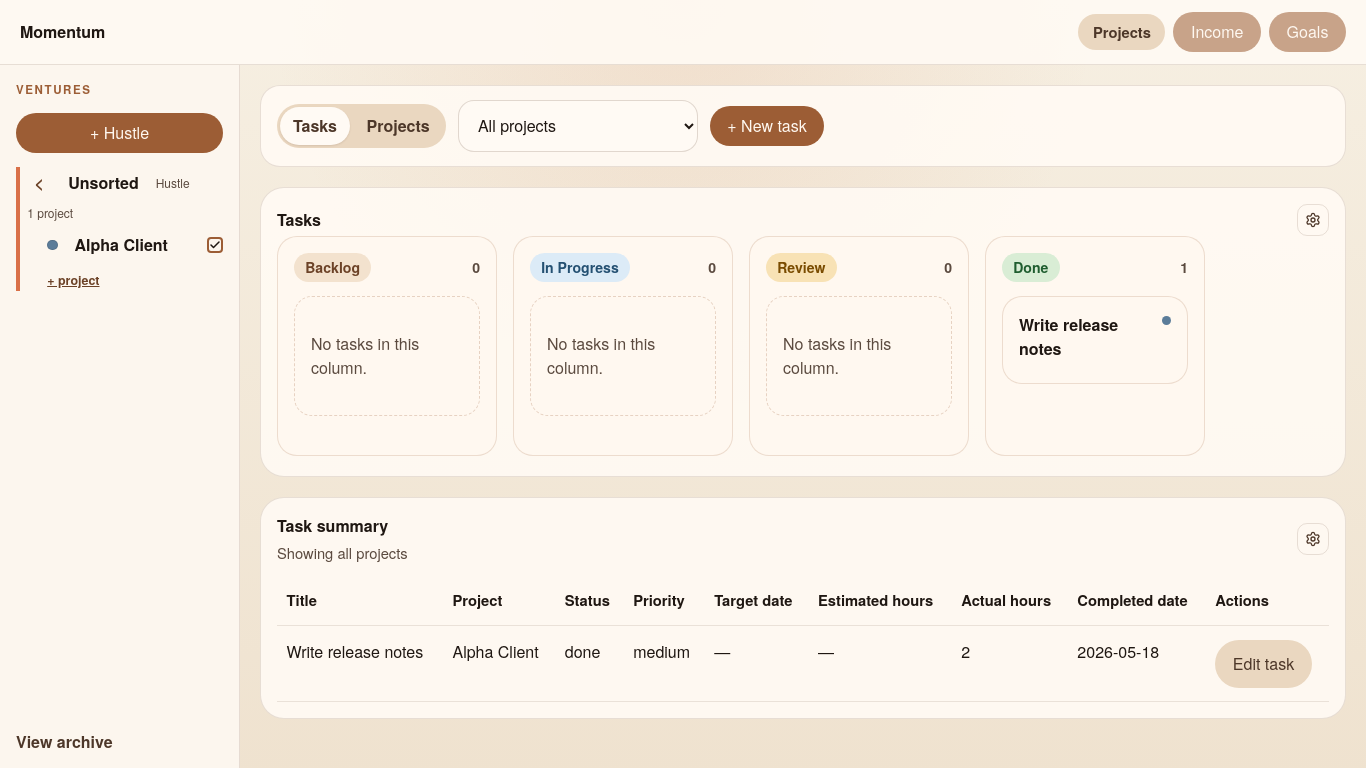
Scenario: Task modal: time logs, chrome, and archive affordance › blur and close save with cancel discard › persists field edits on blur and when closing via the icon
This screenshot has width=1366, height=768.
Click the button "Edit task" at (1264, 664), box [1215, 640, 1312, 688]
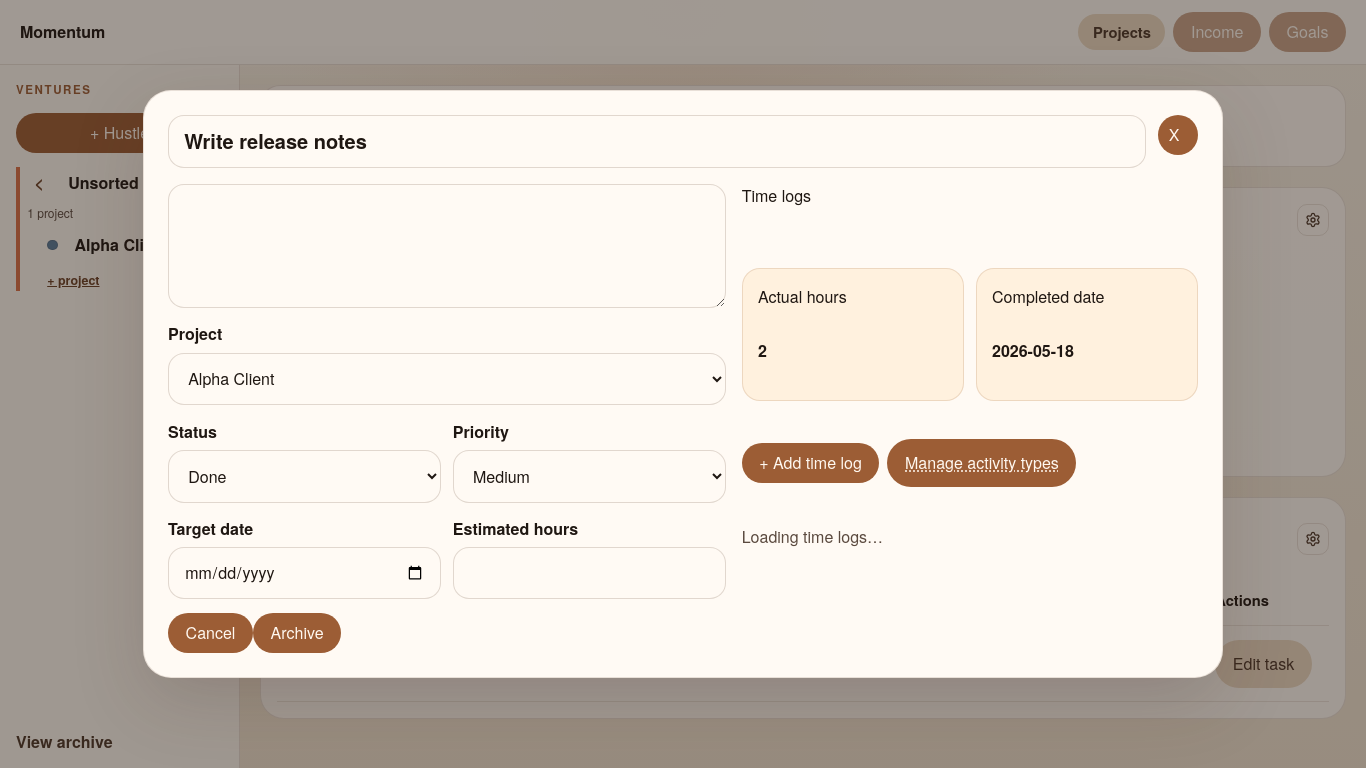
Type "Updated release copy" into the text box named "description" at (447, 246), box [168, 184, 726, 308]
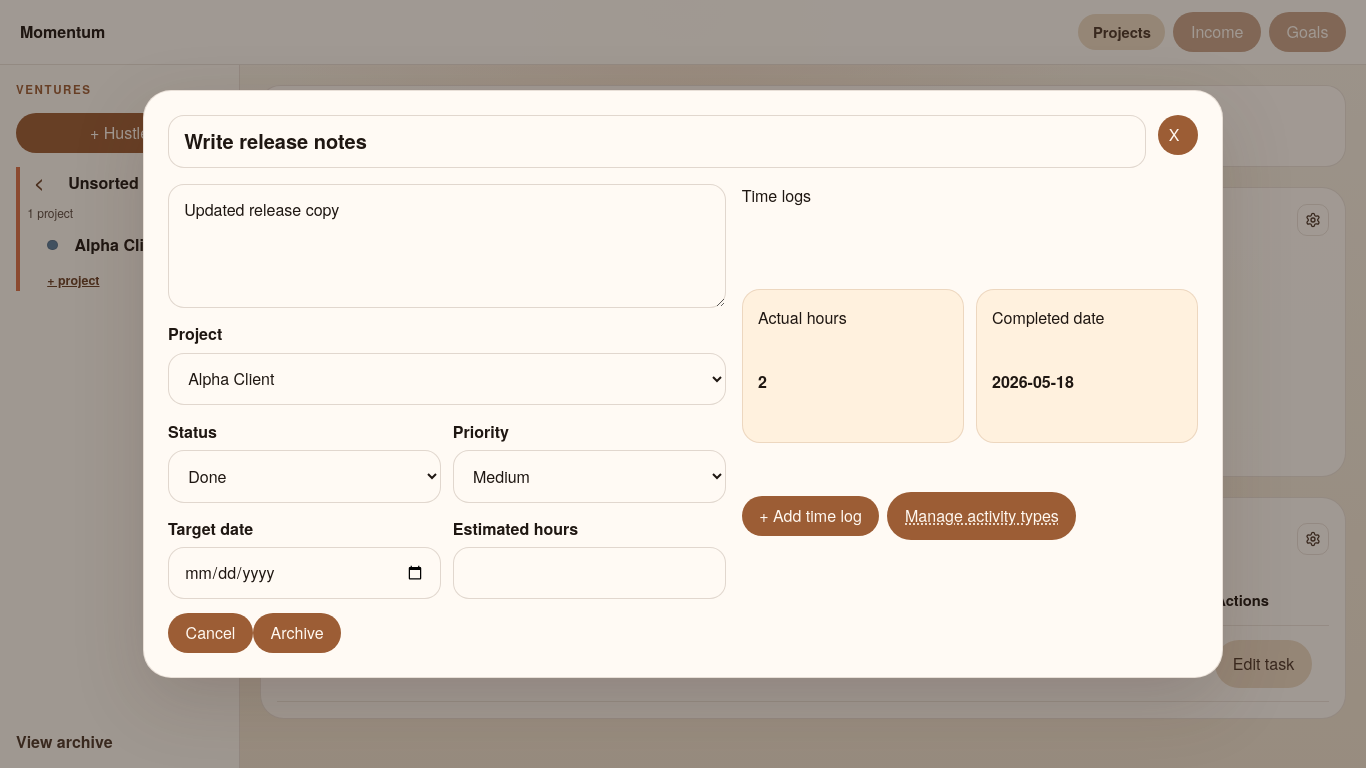
Clear the heading "Write release notes" at (657, 141), box [168, 115, 1146, 168]
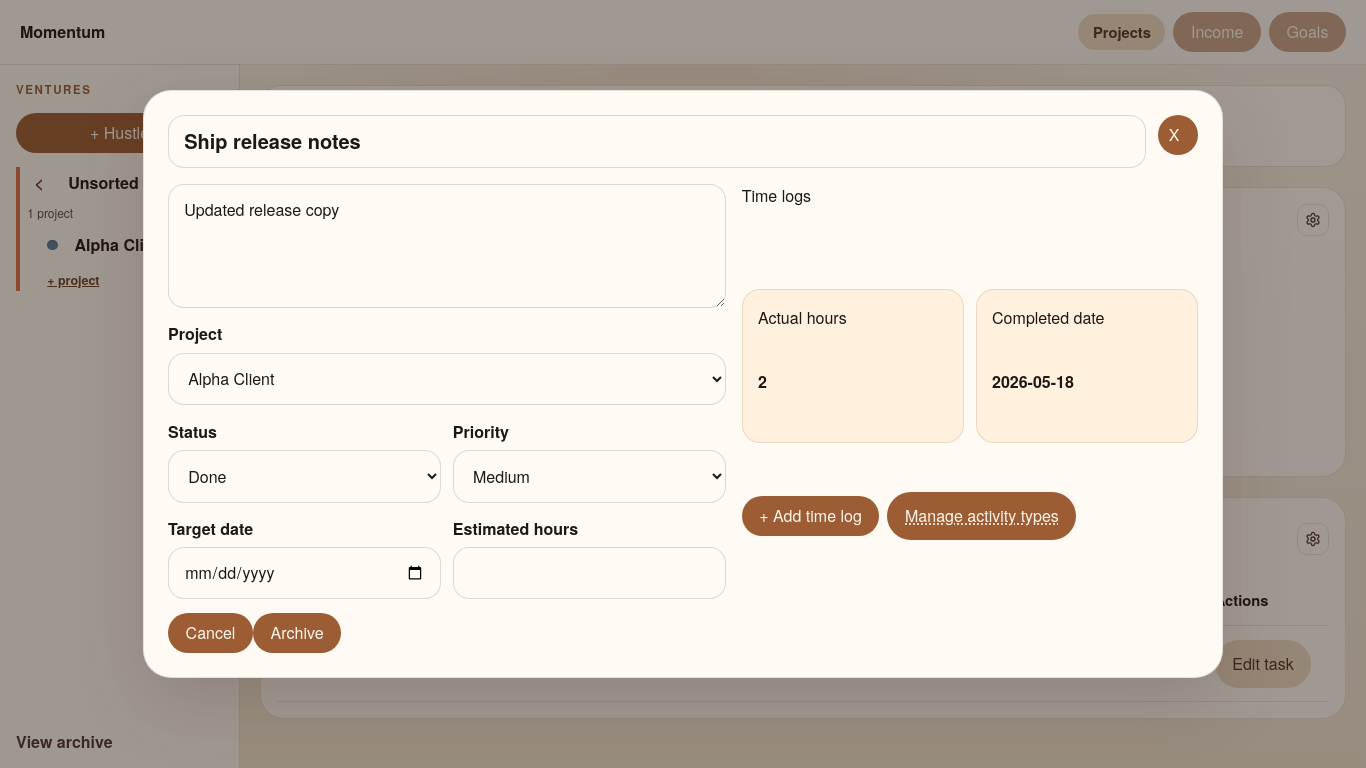
Click the button named "close task" at (1178, 135), box [1158, 115, 1198, 155]
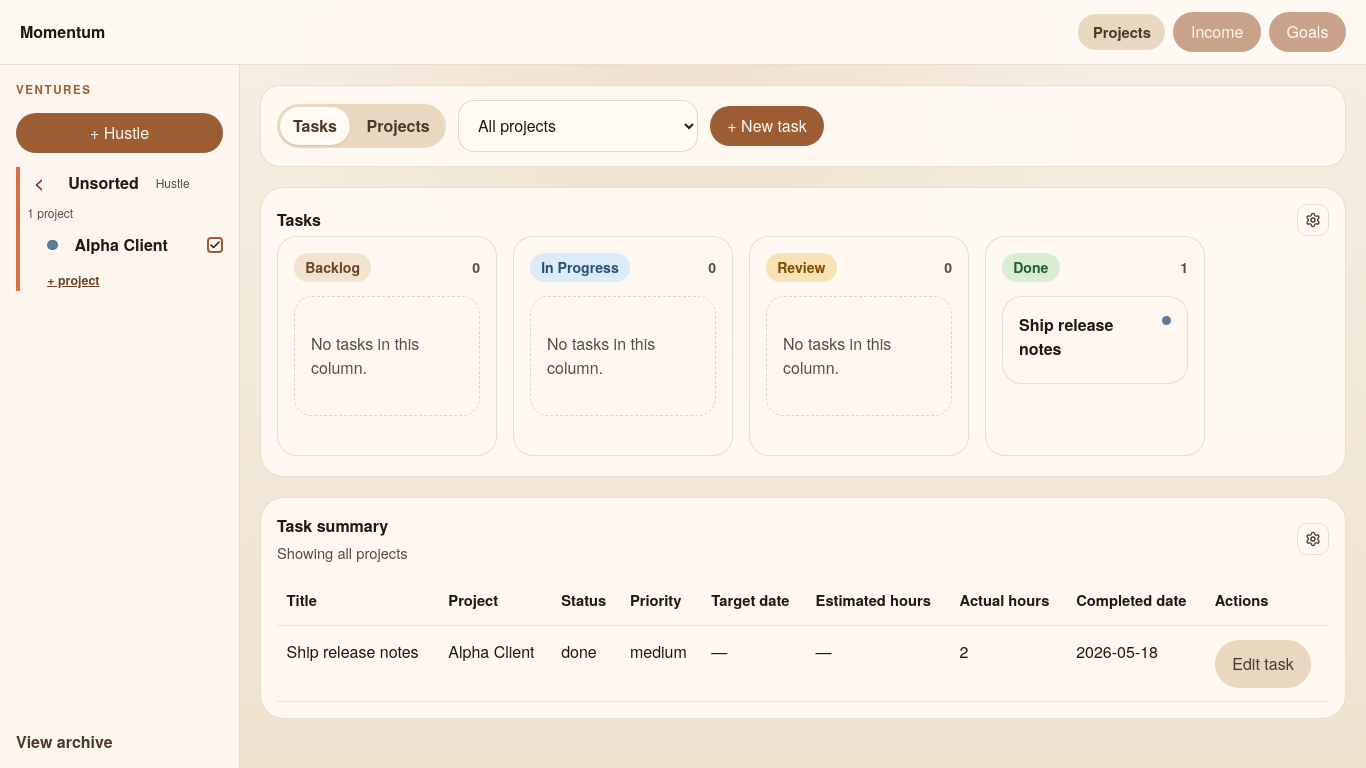
Result: the dialog is gone
